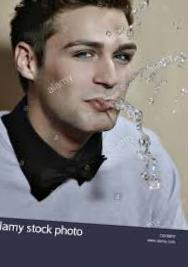spitting: (4, 1, 186, 225)
